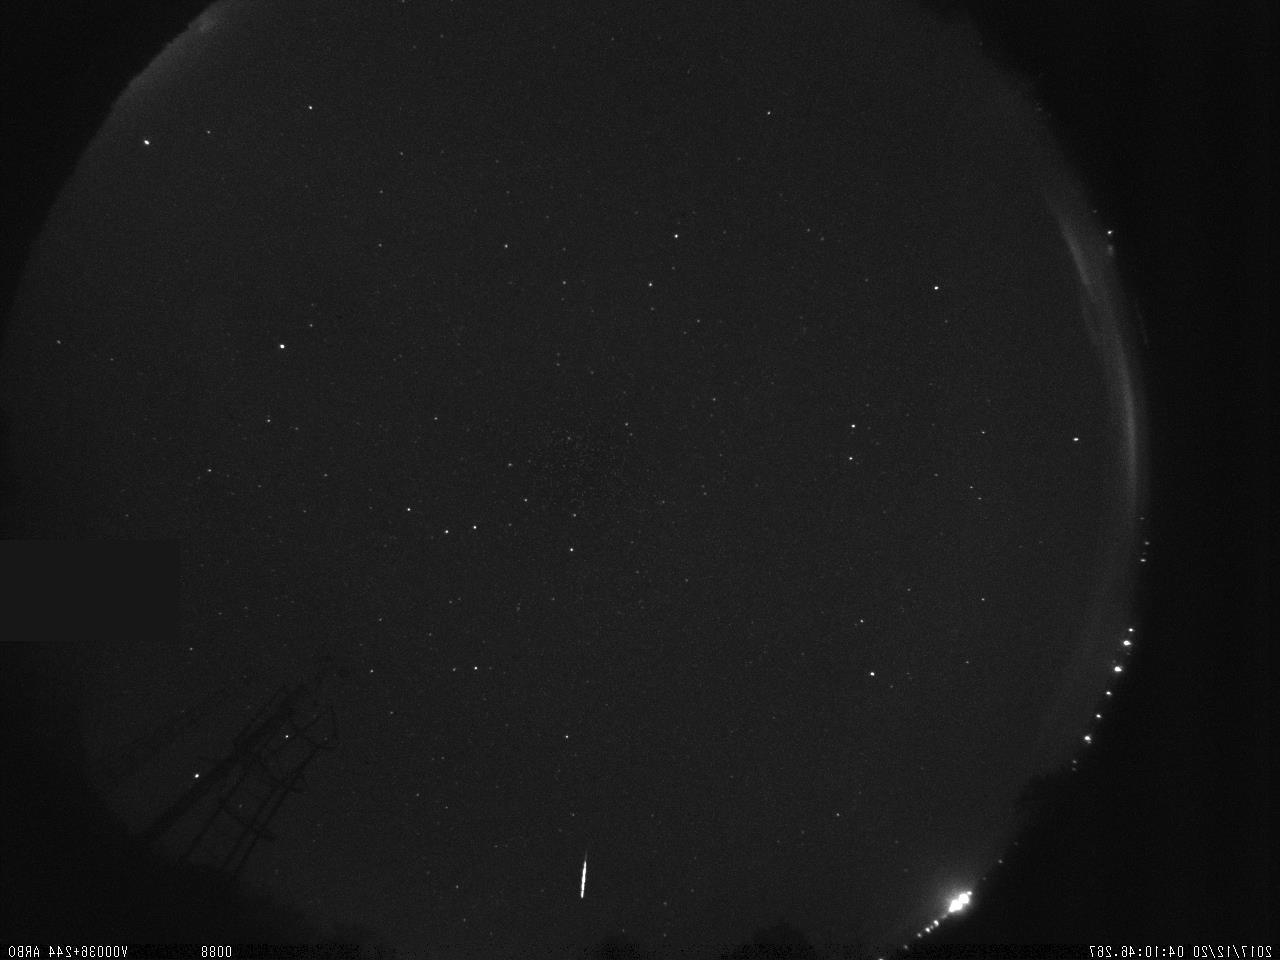meteor: (569, 847, 597, 905)
